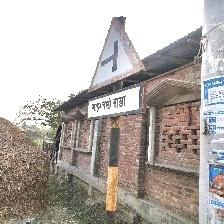Side-road-left: (86, 15, 147, 121)
